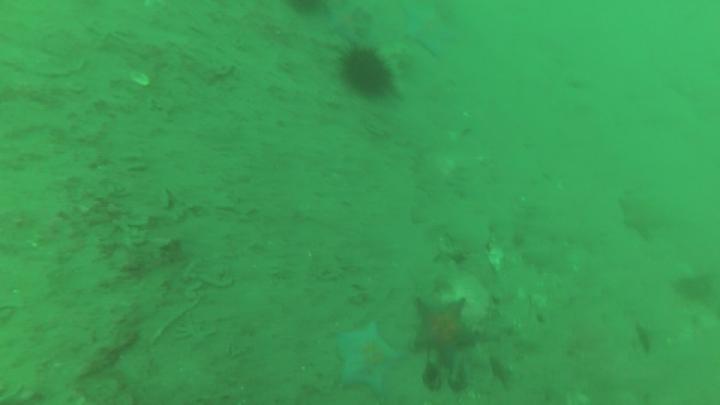echinus: (340, 50, 391, 96)
starfish: (333, 319, 401, 393), (412, 300, 477, 366), (622, 188, 668, 241)
